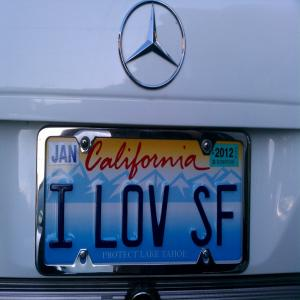Vehicle-registration-plate: (36, 126, 247, 282)
